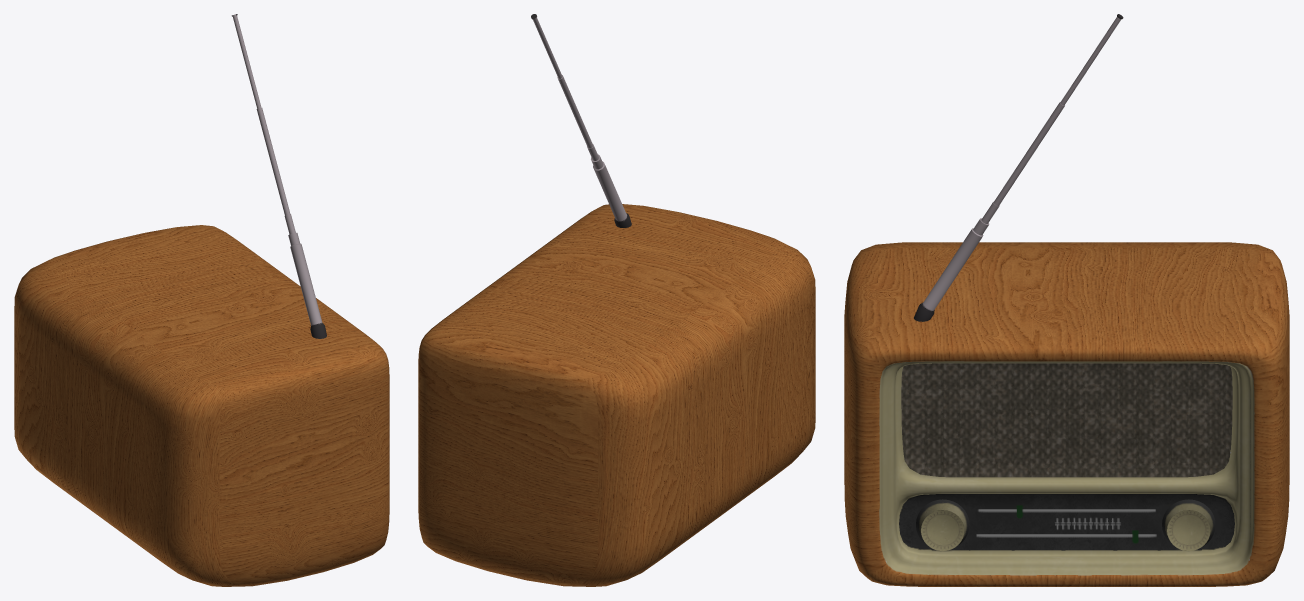
File: RadioFinal.fbx
3 renders of one model, left to right at view 1: azimuth 30°, elevation 25°; view 2: azimuth 150°, elevation 25°; view 3: azimuth 270°, elevation 25°, orthographic. The views are drawn at different scales.
Parts seen in each view (by area): view 1: Radio; view 2: Radio; view 3: Radio.
Part boxes in pixels (x1,y1,x2,y2): Radio: (14,14,389,586); Radio: (418,14,815,586); Radio: (844,14,1289,586).
Size of the model in its own units: 261 by 566 by 411.
Materials: 1 (1 with a texture image).
